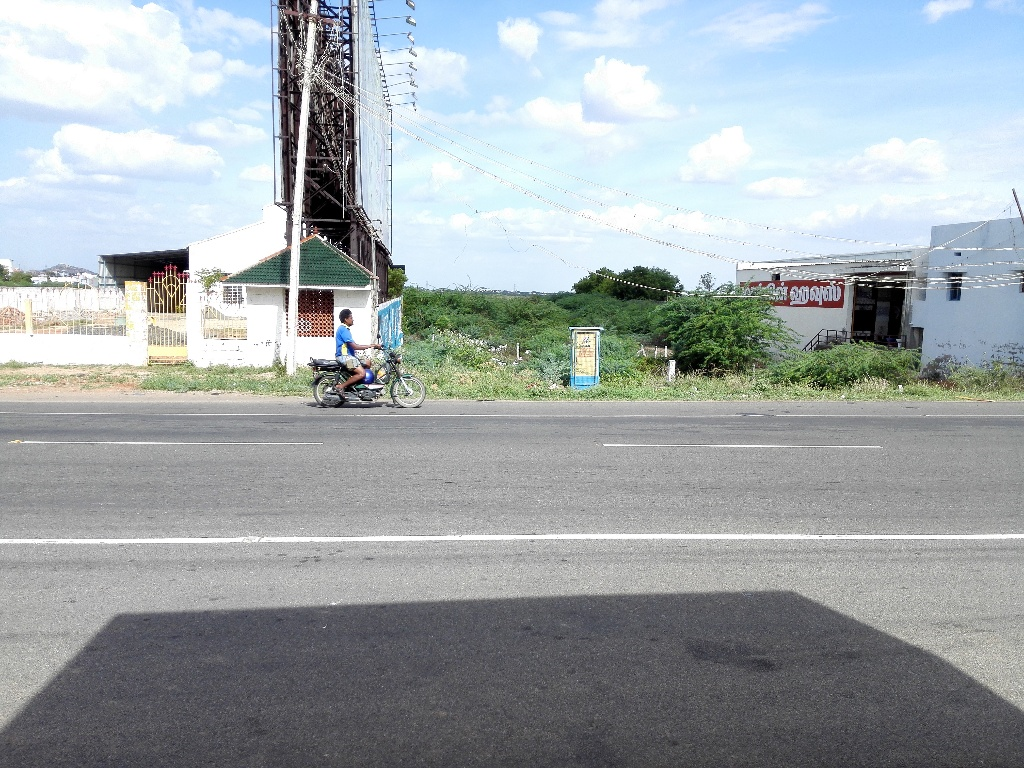biker: (301, 281, 435, 421)
nohelmet: (332, 298, 362, 337)
